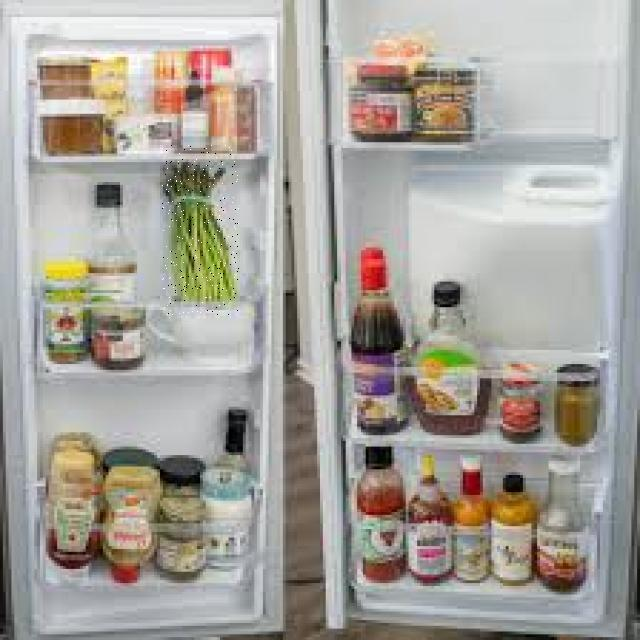asparagus: (162, 144, 239, 315)
